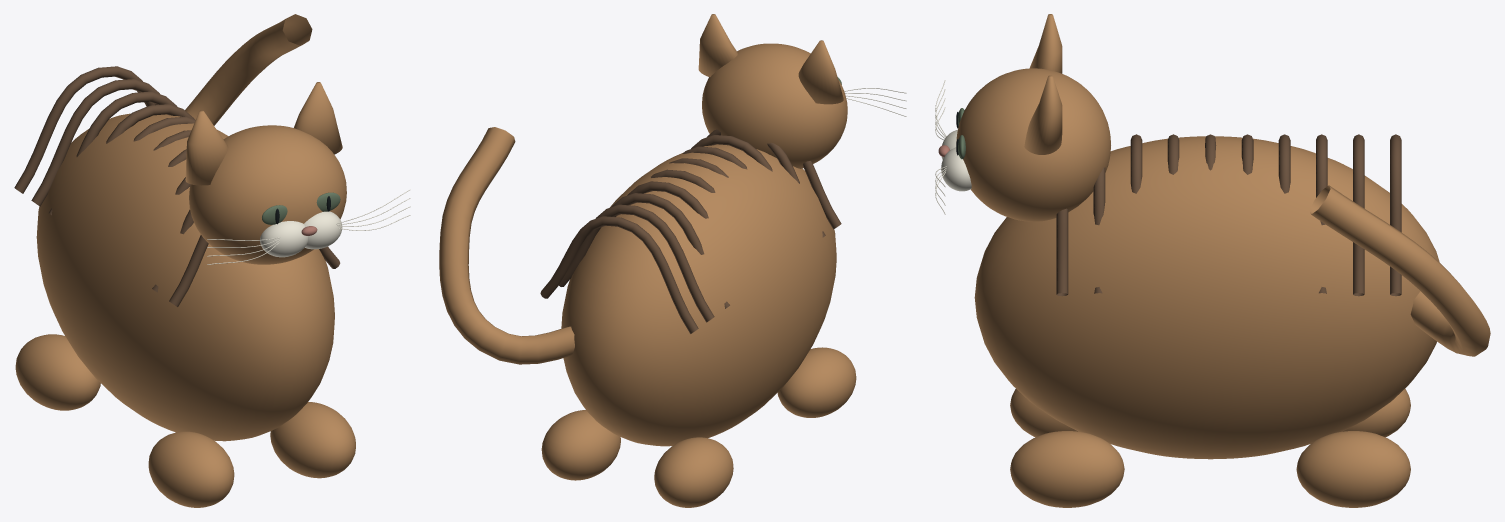
File: bios.glb
The picture shows the model from 3 angles, left to right: view 1: azimuth 30°, elevation 25°; view 2: azimuth 150°, elevation 25°; view 3: azimuth 270°, elevation 25°; orthographic projection. The views are drawn at different scales.
Visible parts, largest first — view 1: BIOS_fur, Head_fur, BIOS_fur2, Curled tail, Head_ivory, Head_iris; view 2: BIOS_fur, Head_fur, BIOS_fur2, Curled tail; view 3: BIOS_fur, Head_fur, Curled tail, BIOS_fur2, Head_ivory.
Part boxes in pixels (left/top/right/bottom): BIOS_fur: left=15, top=113, right=355, bottom=507; Head_fur: left=185, top=82, right=346, bottom=264; BIOS_fur2: left=14, top=66, right=340, bottom=306; Curled tail: left=185, top=14, right=312, bottom=125; Head_ivory: left=207, top=189, right=410, bottom=264; Head_iris: left=262, top=192, right=340, bottom=224; BIOS_fur: left=541, top=144, right=856, bottom=507; Head_fur: left=698, top=14, right=847, bottom=168; BIOS_fur2: left=540, top=129, right=841, bottom=333; Curled tail: left=439, top=127, right=574, bottom=364; BIOS_fur: left=974, top=136, right=1439, bottom=507; Head_fur: left=956, top=14, right=1110, bottom=221; Curled tail: left=1309, top=185, right=1490, bottom=356; BIOS_fur2: left=1056, top=134, right=1401, bottom=296; Head_ivory: left=935, top=80, right=971, bottom=214.
Bounding box in the file's own units: 0.4186 × 0.558 × 0.6593.
